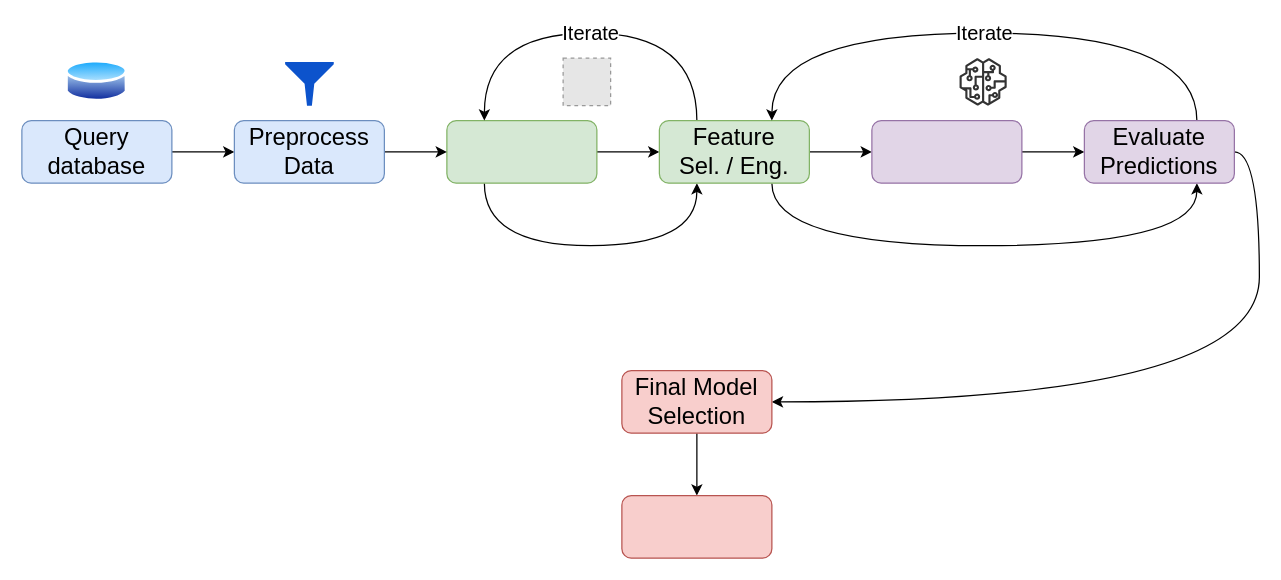
Some shapes in this 1281 by 580 pixel diagram are drawn without their labels. Grey dashed boxes stand in for pictures. Here are the shapes that lost their labels. From the top down, the centre of each, then its label:
the point at 521,151: Exploratory Analysis
the point at 946,151: Create Models
the point at 696,526: Final Predictions
